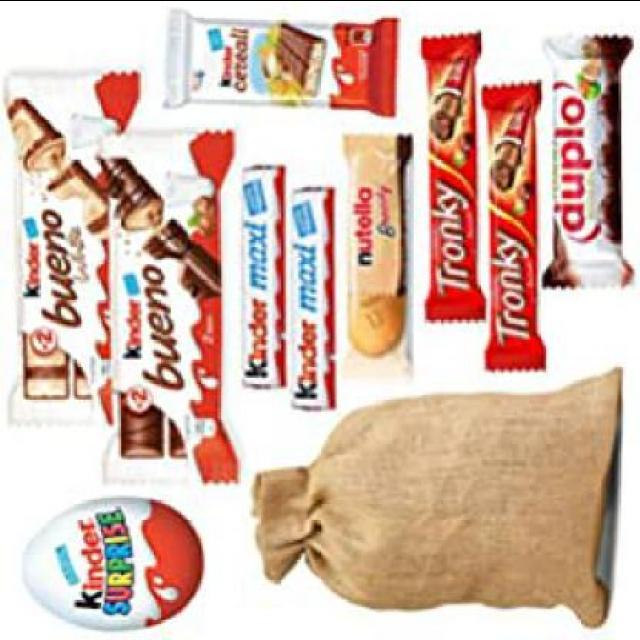Chocolate bar: (100, 122, 243, 490), (5, 62, 143, 434), (157, 8, 406, 116), (538, 27, 636, 296), (418, 30, 491, 330), (480, 70, 552, 374), (284, 172, 342, 424), (238, 156, 292, 398)
